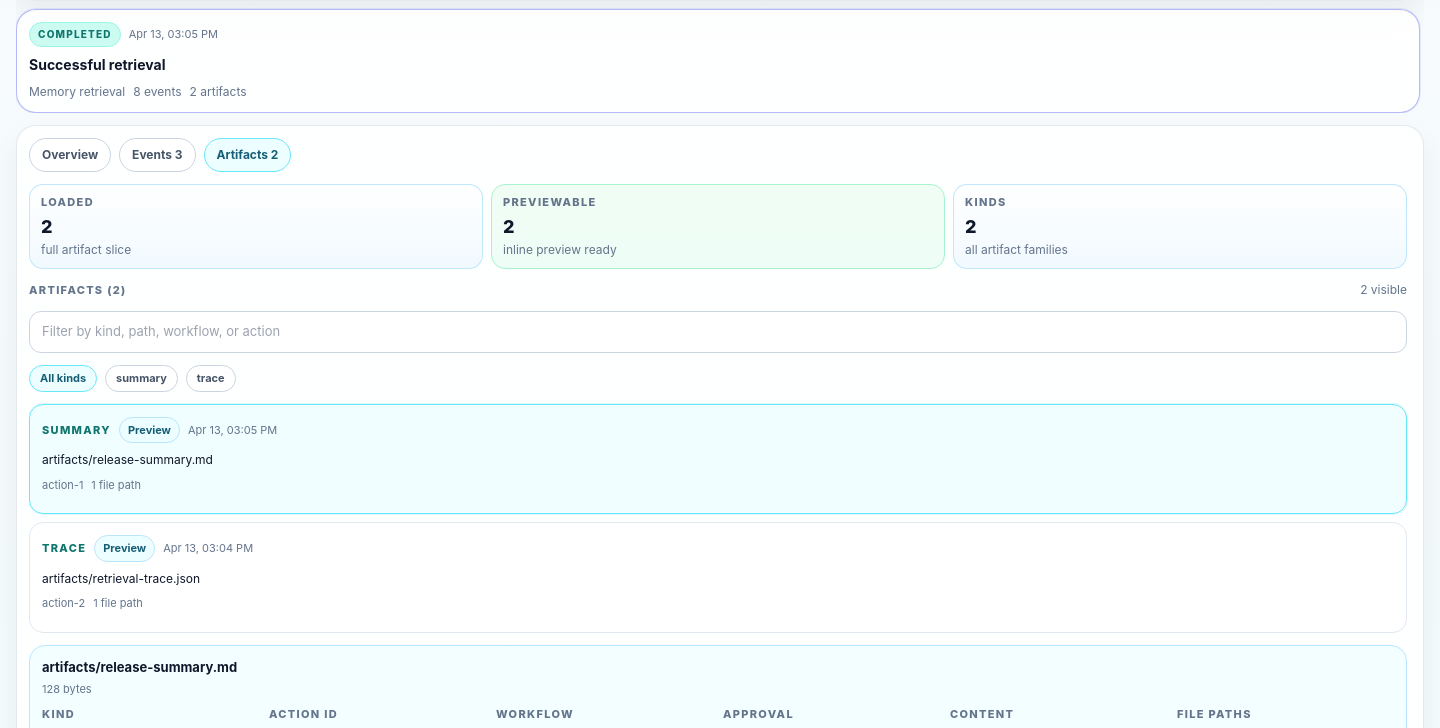
filters artifacts and loads the selected artifact detail
The image size is (1440, 728).
(page scrolled)
Expected: the text "Previewable" is shown, 503,195 -> 596,209
Type "trace" into the field with placeholder "Filter by kind, path, workflow, or action" at (718, 332), box 29,311 -> 1407,353
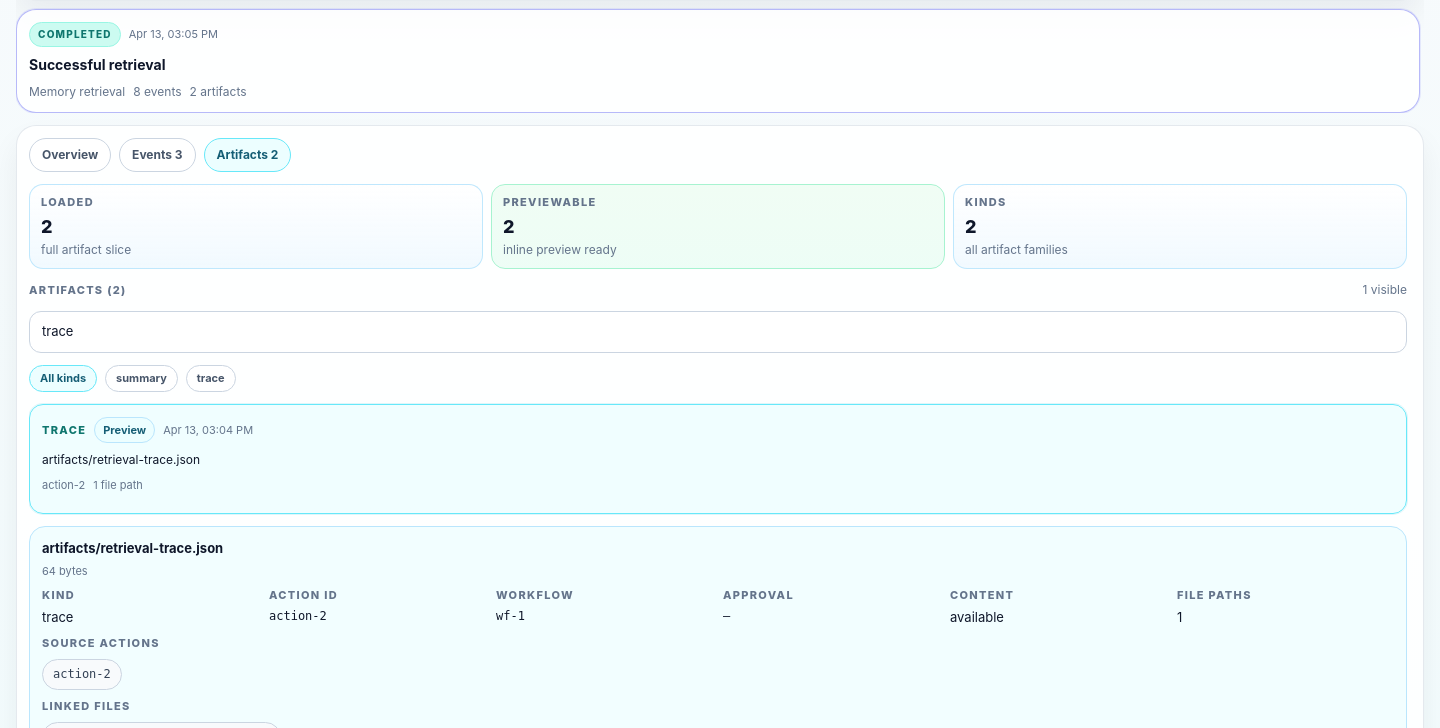
Expected: the 1st text "artifacts/retrieval-trace.json" is shown, 42,451 -> 200,469
Result: the button "artifacts/release-summary.md" is gone
